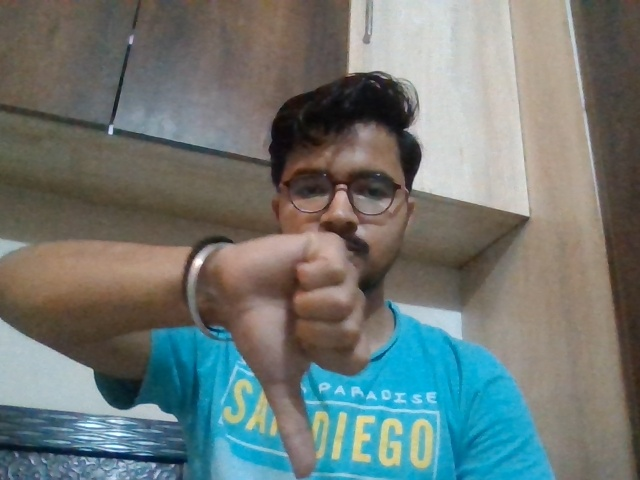no: (198, 227, 377, 479)
